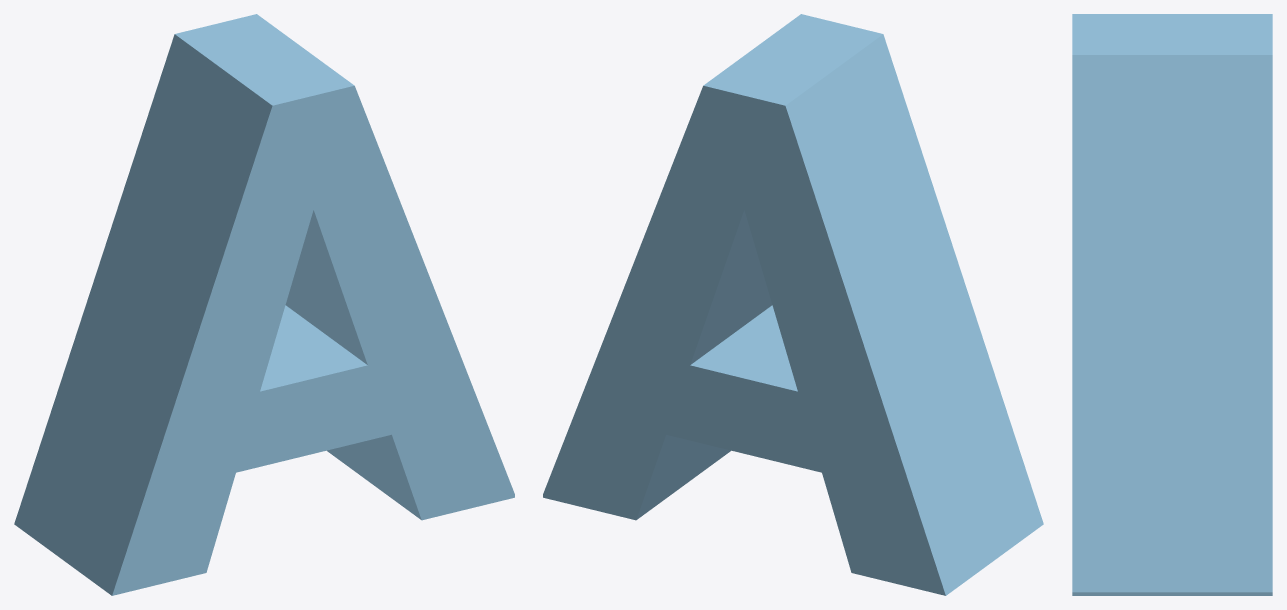
Rendered from letter_a.obj.
3 renders of one model, left to right at view 1: azimuth 30°, elevation 25°; view 2: azimuth 150°, elevation 25°; view 3: azimuth 270°, elevation 25°, orthographic. The views are drawn at different scales.
Visible parts, largest first — view 1: Part 1; view 2: Part 1; view 3: Part 1.
Part boxes in pixels (x1=…): Part 1: x1=14, y1=14, x2=514, y2=595; Part 1: x1=543, y1=14, x2=1043, y2=595; Part 1: x1=1072, y1=14, x2=1272, y2=595.
Bounding box in the file's own units: 0.1781 × 0.1906 × 0.075.
